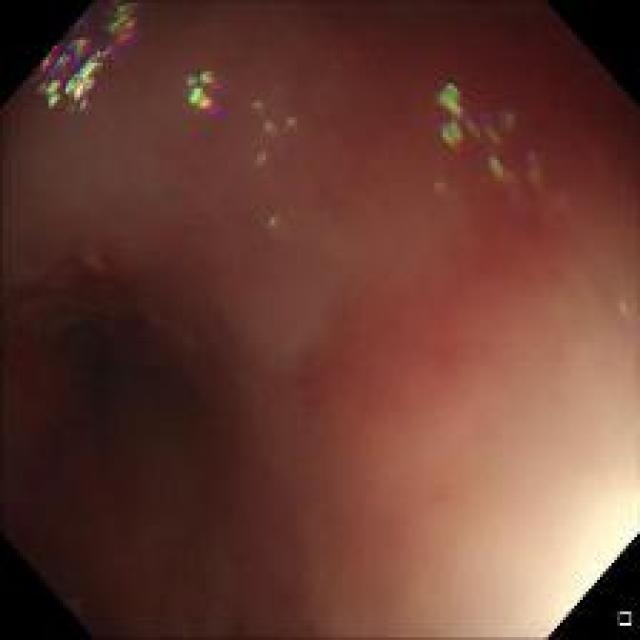color misalignment: (30, 1, 149, 118), (435, 76, 485, 160), (180, 64, 228, 115), (612, 295, 638, 345), (485, 106, 520, 141), (264, 110, 301, 142), (248, 91, 272, 125), (259, 210, 284, 238), (522, 148, 542, 182), (489, 151, 508, 182), (250, 146, 272, 172)
contrast: (0, 98, 301, 638)
saturation: (474, 445, 638, 638)
